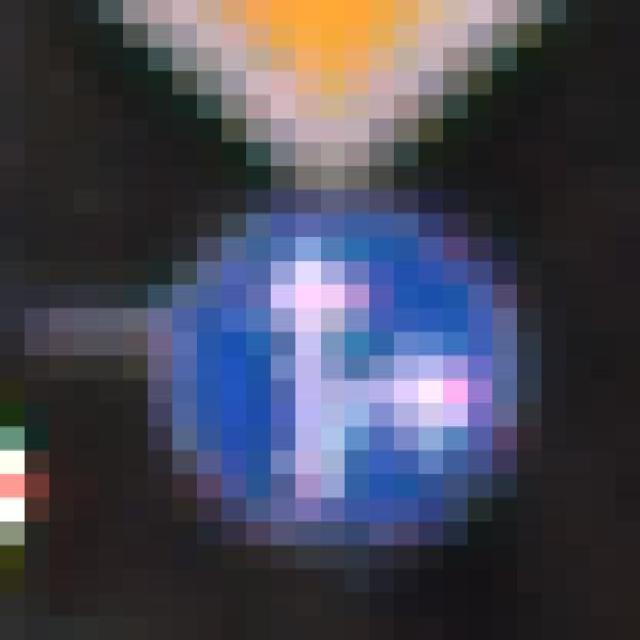Go Straight or Turn Right: (138, 211, 556, 567)
